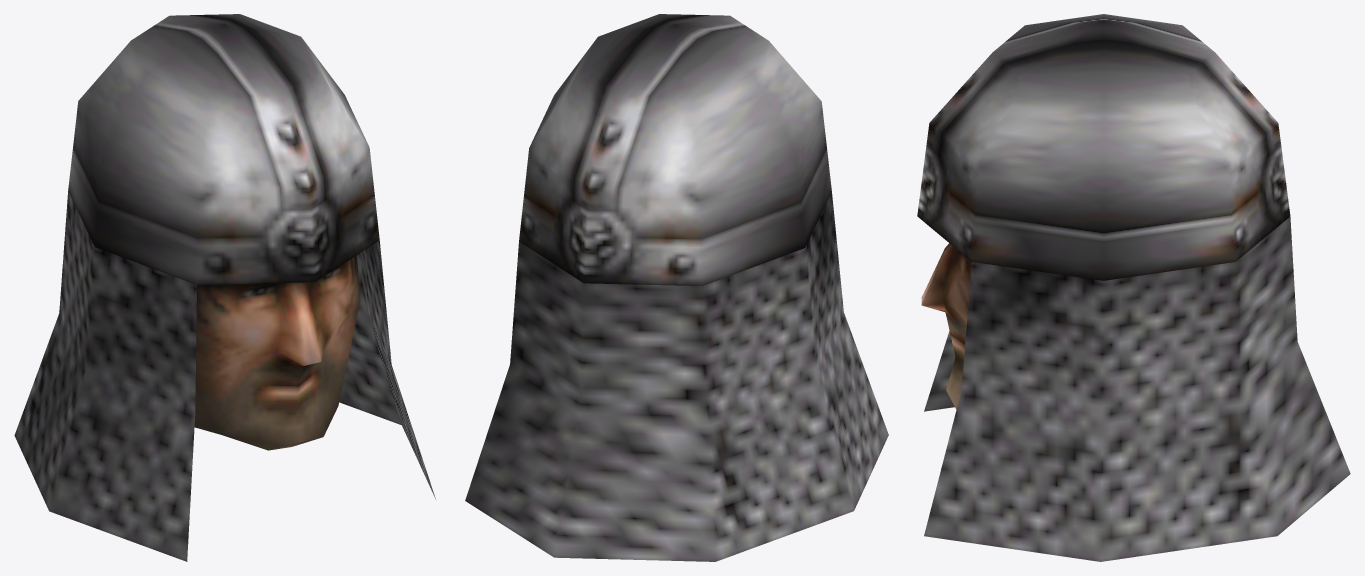
The model's file is sven2.fbx.
The picture shows the model from 3 angles, left to right: view 1: azimuth 30°, elevation 25°; view 2: azimuth 150°, elevation 25°; view 3: azimuth 270°, elevation 25°; orthographic projection. The views are drawn at different scales.
Visible parts, largest first — view 1: Group01; view 2: Group01; view 3: Group01.
Part boxes in pixels (x1,y1,x2,y2): Group01: [14, 14, 435, 561]; Group01: [465, 14, 888, 561]; Group01: [917, 14, 1350, 561].
Size of the model in its own units: 21.4 by 25.67 by 22.26.
